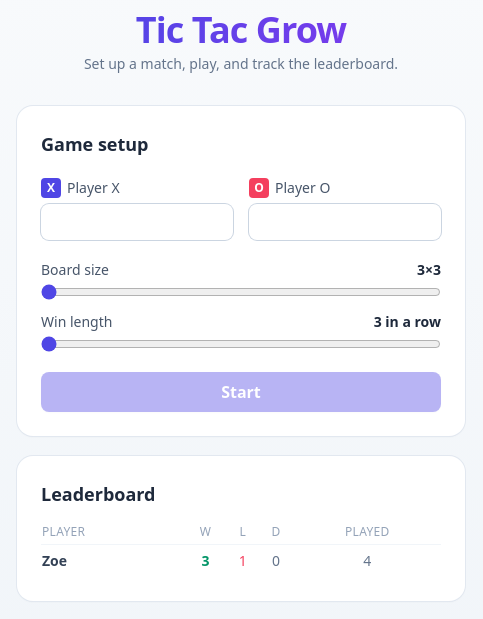
Test: Main — setup gate › bounds the setup sliders and clamps win length to the board size
Expected: the text "Zoe" is shown, [41,544,184,577]
Set the slider labelled "Board size" to "5". click: x=113, y=292
box: [41,284,441,300]
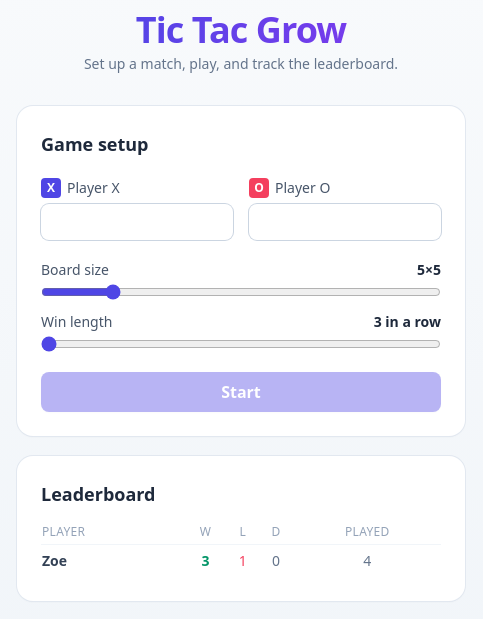
Set the slider labelled "Win length" to "5". click: x=433, y=344
box: [41,336,441,352]
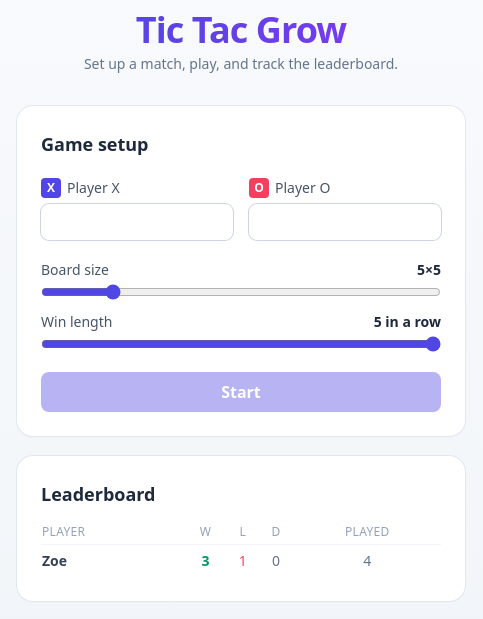
Set the slider labelled "Board size" to "3". click: x=49, y=292
box: [41,284,441,300]
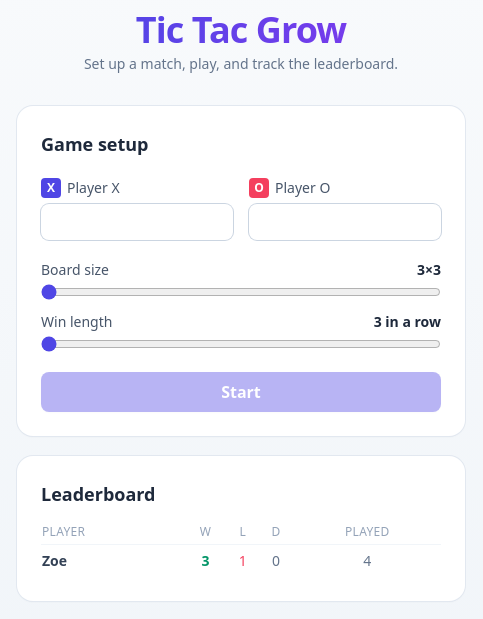
Expected: the slider labelled "Win length" holds "3", [41,336,441,352]
